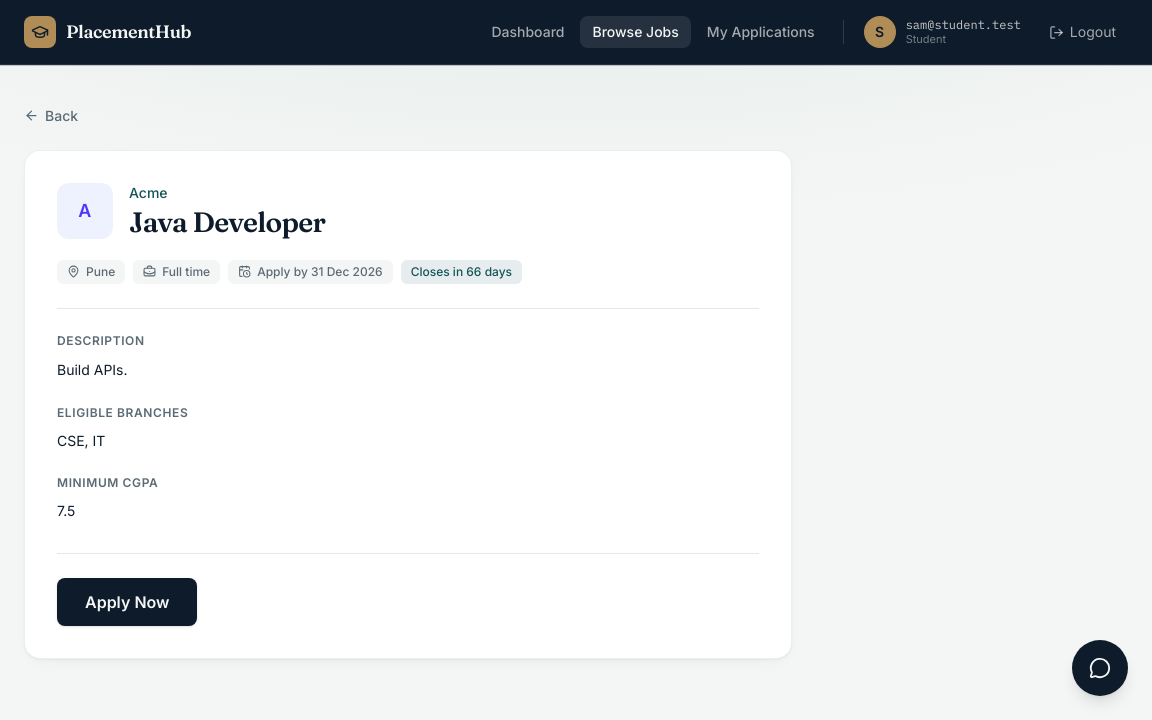
Test: Job details page › sends only one request when Apply is double-clicked (regression)
This screenshot has width=1152, height=720.
// Two fast clicks before React re-renders: the second must be ignored.
Click the button "Apply Now". click: coordinates (127, 602)
box: [57,578,198,626]
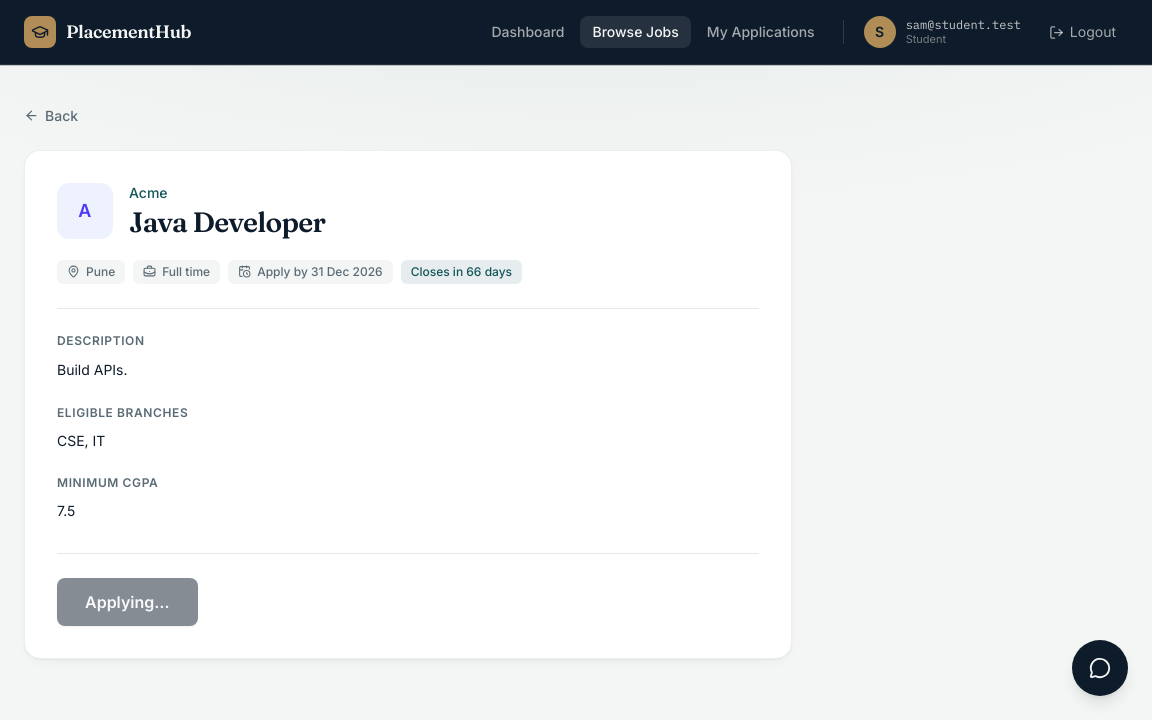
Click the button named "apply now". click: coordinates (127, 602)
box: [57,578,198,626]
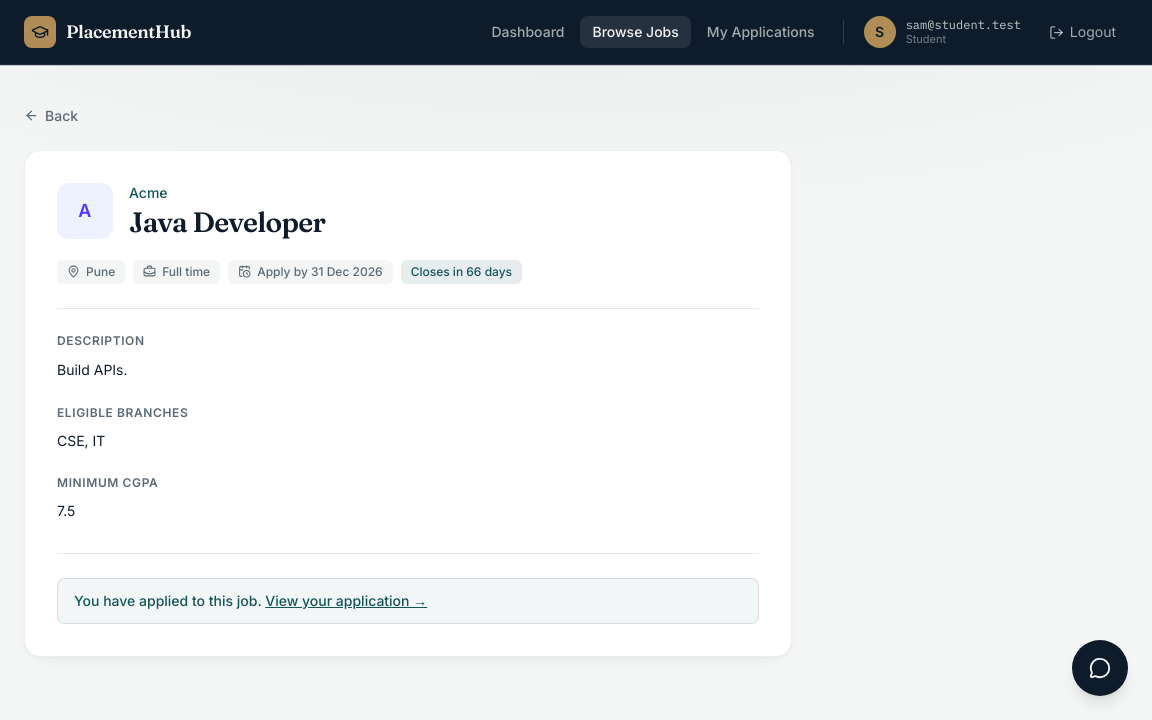
Expected: the text "You have applied to this job. View your application →" is shown, [57,578,759,624]
